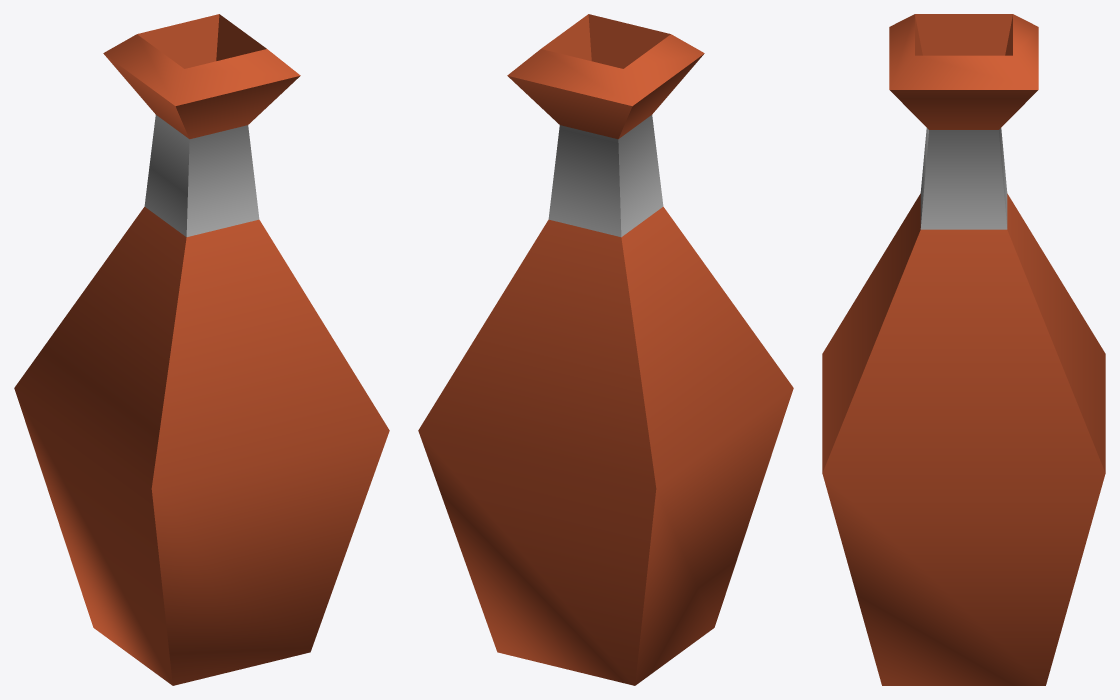
Rendered from vaseSkinny_environment_001.fbx.
3 renders of one model, left to right at view 1: azimuth 30°, elevation 25°; view 2: azimuth 150°, elevation 25°; view 3: azimuth 270°, elevation 25°, orthographic. The views are drawn at different scales.
Visible parts, largest first — view 1: pCylinder4; view 2: pCylinder4; view 3: pCylinder4.
Boxes of the visible parts, x1,y1,x2,y2 form: pCylinder4: (14,14,389,685); pCylinder4: (418,14,793,685); pCylinder4: (822,14,1105,685).
Size of the model in its own units: 0.5904 by 1.42 by 0.5904.
